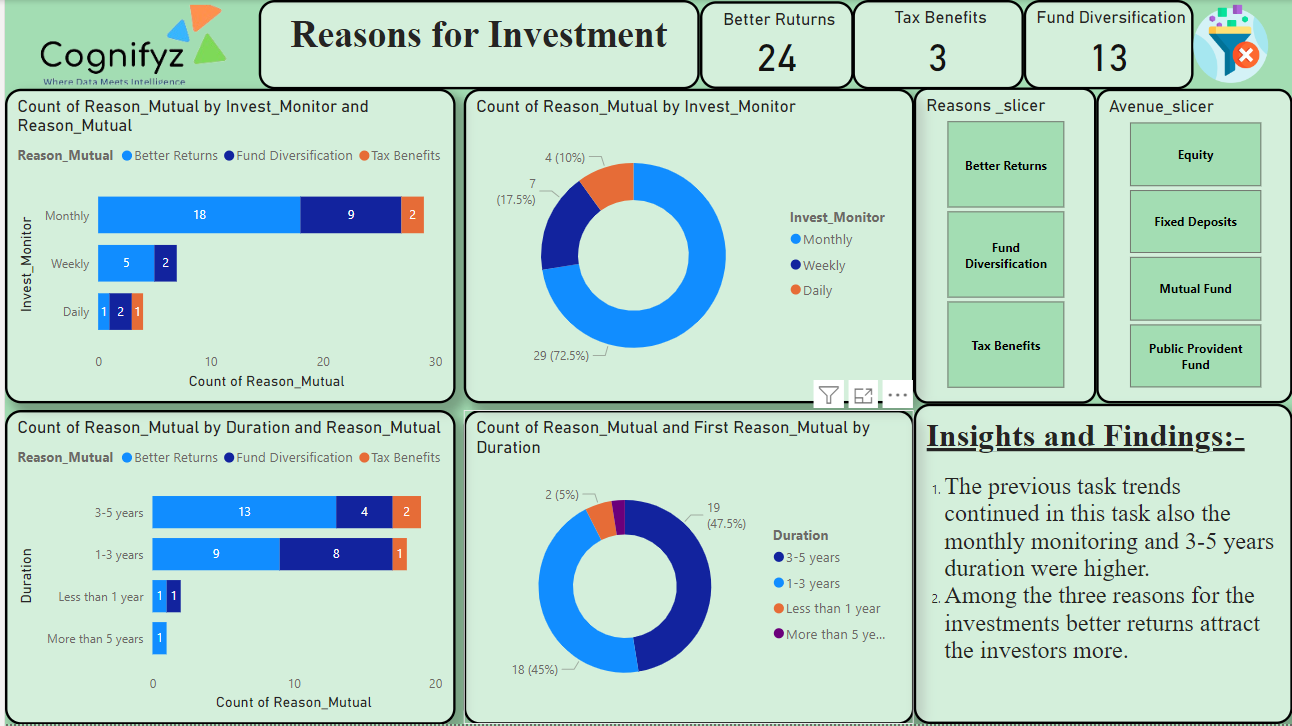

What the dashboard file says about the page in this screenshot:
{"tool":"powerbi","page":{"name":"Task 5","canvas":[1280,720],"ordinal":4},"visuals":[{"type":"barChart","fields":{"Category":["Data_set 2.Invest_Monitor"],"Y":["CountNonNull(Data_set 2.Reason_Mutual)"],"Series":["Data_set 2.Reason_Mutual"]},"box":[0,88.6,447.8,312.5],"z":0},{"type":"barChart","fields":{"Y":["CountNonNull(Data_set 2.Reason_Mutual)"],"Series":["Data_set 2.Reason_Mutual"],"Category":["Data_set 2.Duration"]},"box":[0,407,447.8,312.5],"z":1000},{"type":"donutChart","fields":{"Category":["Data_set 2.Invest_Monitor"],"Y":["CountNonNull(Data_set 2.Reason_Mutual)"]},"box":[456,88.6,447.8,312.5],"z":2000},{"type":"donutChart","fields":{"Category":["Data_set 2.Duration"],"Y":["CountNonNull(Data_set 2.Reason_Mutual)"]},"box":[456,407,447.8,312.5],"z":3000},{"type":"textbox","box":[903.5,401.1,376.8,318.3],"z":3001},{"type":"card","title":"Tax Benefits","fields":{"Values":["CountNonNull(Data_set 2.Reason_Mutual)"]},"box":[843.2,0,170.3,88.6],"z":3002},{"type":"card","title":"Fund Diversification","fields":{"Values":["CountNonNull(Data_set 2.Reason_Mutual)"]},"box":[1013.4,0,169.1,88.6],"z":3003},{"type":"card","title":"Better Ruturns","fields":{"Values":["CountNonNull(Data_set 2.Reason_Mutual)"]},"box":[690.4,1.2,152.8,87.5],"z":3004},{"type":"slicer","title":"Reasons _slicer","fields":{"Values":["Data_set 2.Reason_Mutual"]},"box":[903.5,87.1,181.3,314],"z":3005},{"type":"slicer","title":"Avenue_slicer","fields":{"Values":["Data_set 2.Avenue"]},"box":[1084.7,88.5,195.5,312.6],"z":3006},{"type":"image","box":[1169.7,0,98,87.5],"z":3007},{"type":"textbox","box":[251.9,0,438.5,88.6],"z":3008},{"type":"image","box":[0,0,241.4,88.6],"z":3009}]}

Visuals, with their boxes in screenshot pixels (x1, y1, x2, y2), scaled from the page's 1280x720 canvas onto the 1292x726 screenshot:
barChart - Data_set 2.Invest_Monitor x CountNonNull(Data_set 2.Reason_Mutual): 0 89 452 404
barChart - CountNonNull(Data_set 2.Reason_Mutual) x Data_set 2.Reason_Mutual: 0 410 452 725
donutChart - Data_set 2.Invest_Monitor x CountNonNull(Data_set 2.Reason_Mutual): 460 89 912 404
donutChart - Data_set 2.Duration x CountNonNull(Data_set 2.Reason_Mutual): 460 410 912 725
textbox: 912 404 1291 725
"Tax Benefits" card: 851 0 1023 89
"Fund Diversification" card: 1023 0 1194 89
"Better Ruturns" card: 697 1 851 89
"Reasons _slicer" slicer: 912 88 1095 404
"Avenue_slicer" slicer: 1095 89 1291 404
image: 1181 0 1280 88
textbox: 254 0 697 89
image: 0 0 244 89
